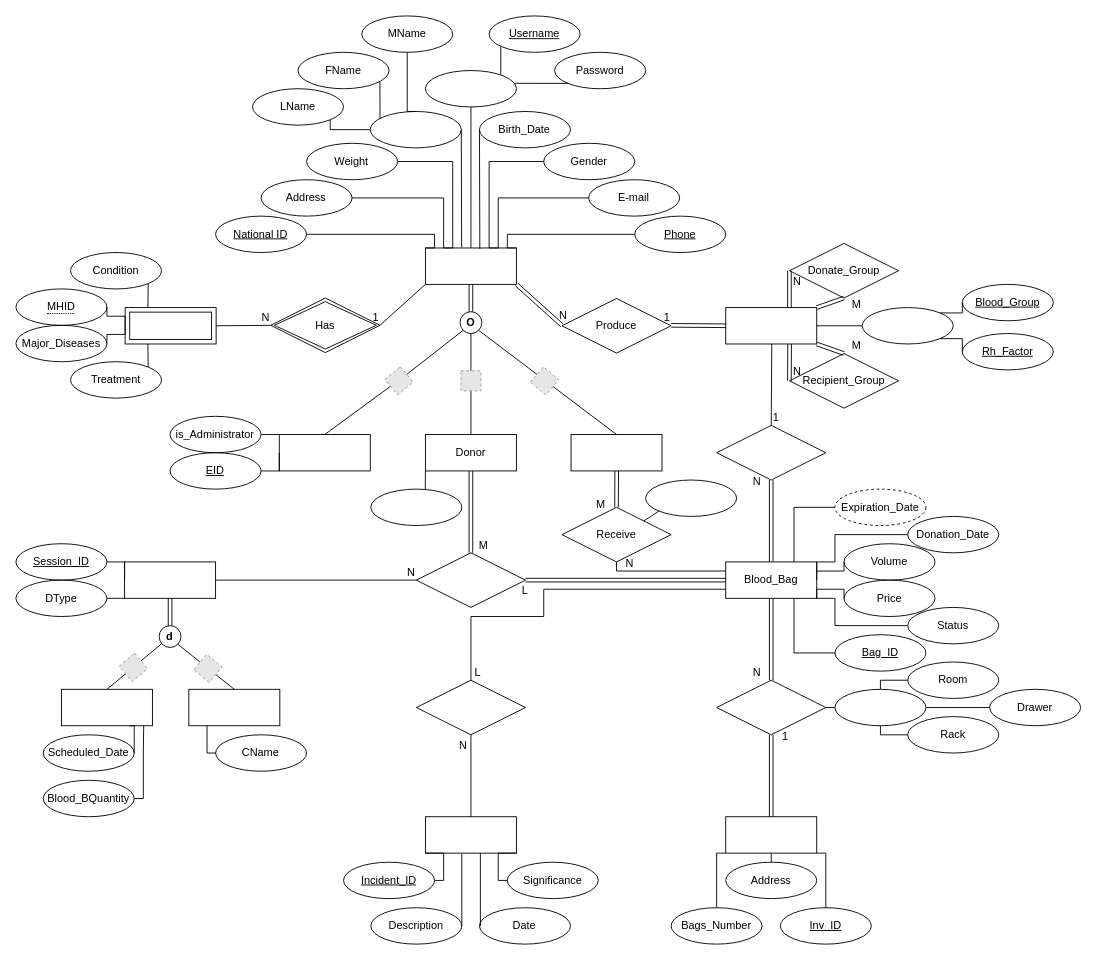
The diagram is 1097 pixels wide and 960 high, and some of its shapes have lost their labels. Grey dashed boxes stand in for pictures. The box of each missing label's shape, as (x1, y1, x2, y2) in pixels:
Blood_ID: (861, 307, 953, 344)
Blood_Type: (725, 307, 817, 344)
Collection_Drive: (61, 688, 152, 726)
Contained: (716, 425, 826, 480)
Donate: (415, 552, 526, 607)
Donation_Center: (188, 688, 280, 726)
Donation_Location: (124, 561, 216, 598)
Employee: (278, 434, 370, 471)
Incident_History: (425, 816, 516, 853)
Inventory: (725, 816, 817, 853)
Involves: (415, 679, 526, 735)
Last_DDate: (370, 488, 462, 526)
Location: (834, 688, 926, 726)
Login_Cardinality: (425, 70, 516, 107)
Medical_History: (124, 307, 216, 344)
Name: (369, 111, 461, 148)
Payment_conf: (645, 479, 737, 516)
Person: (425, 247, 516, 284)
Recipient: (570, 434, 662, 471)
Stored_In: (716, 679, 826, 735)
